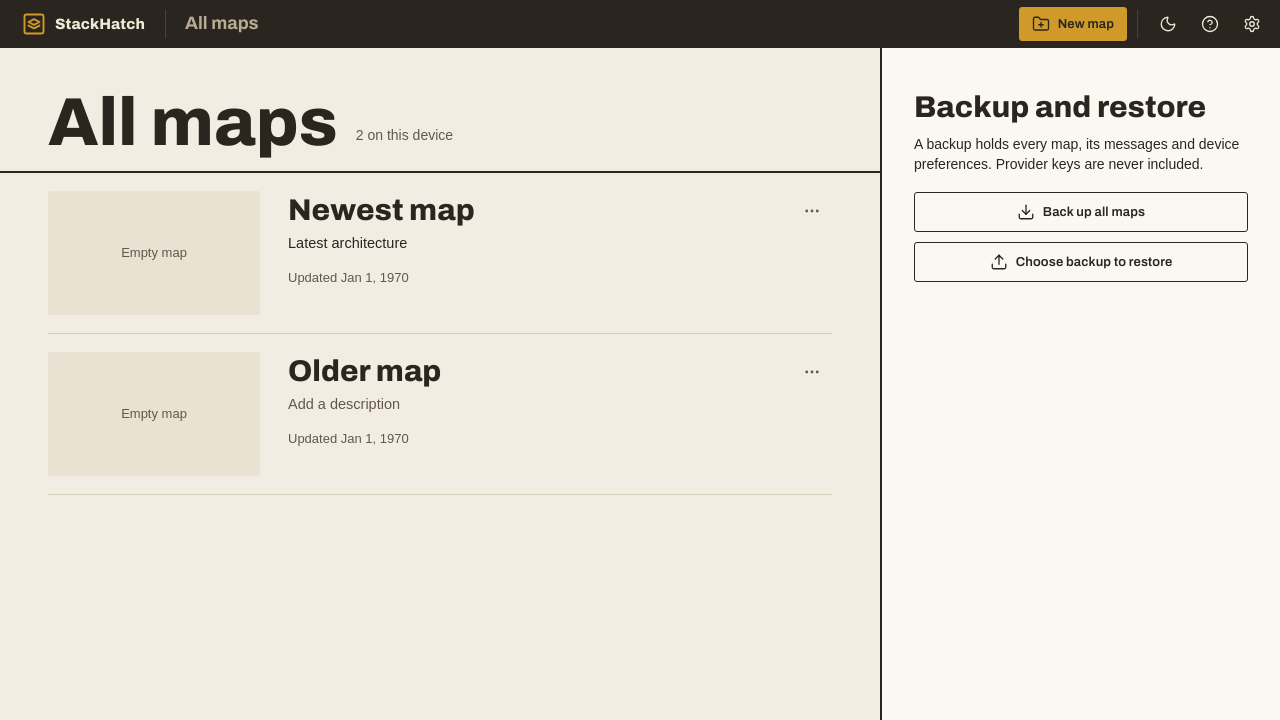
Scenario: AllMapsPage › keeps an unsaved description editable after browser storage fails
Click the button with aria-label "Edit description for Older map": coordinates (344, 404) [288,392,400,417]
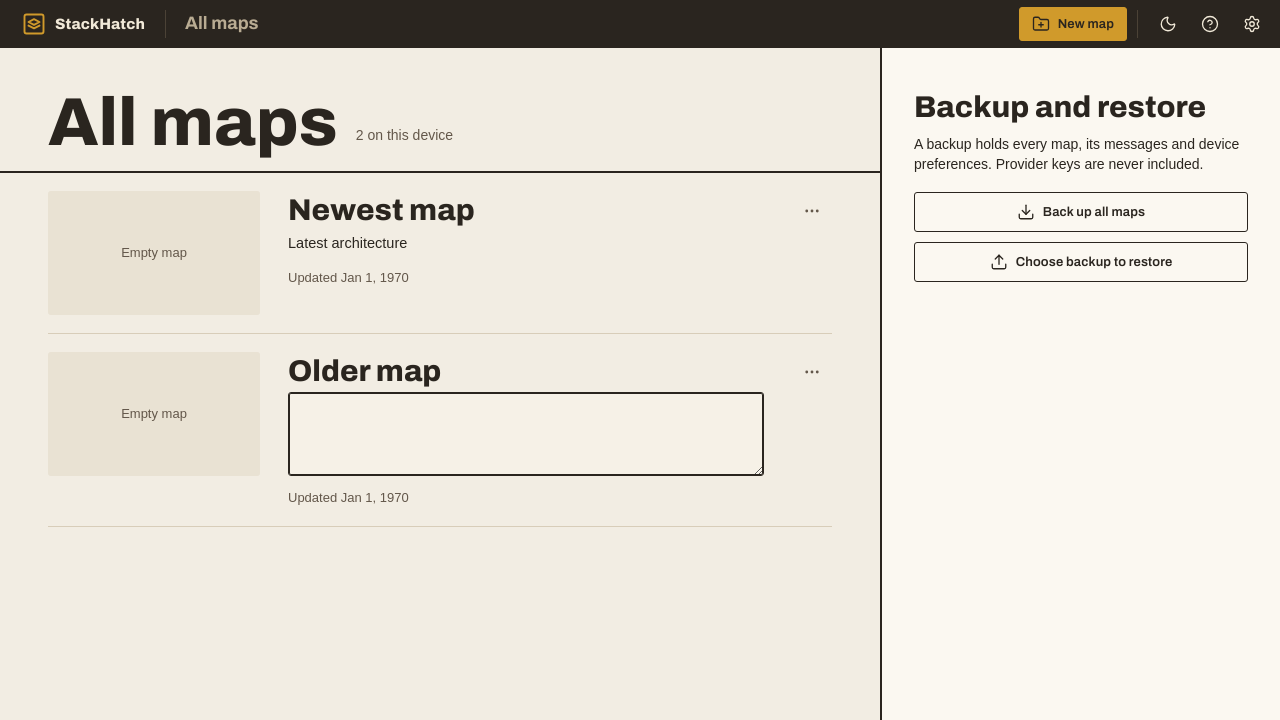
In the text box named "Description for Older map": coordinates (526, 434) [288,392,764,476], type "Keep this draft"
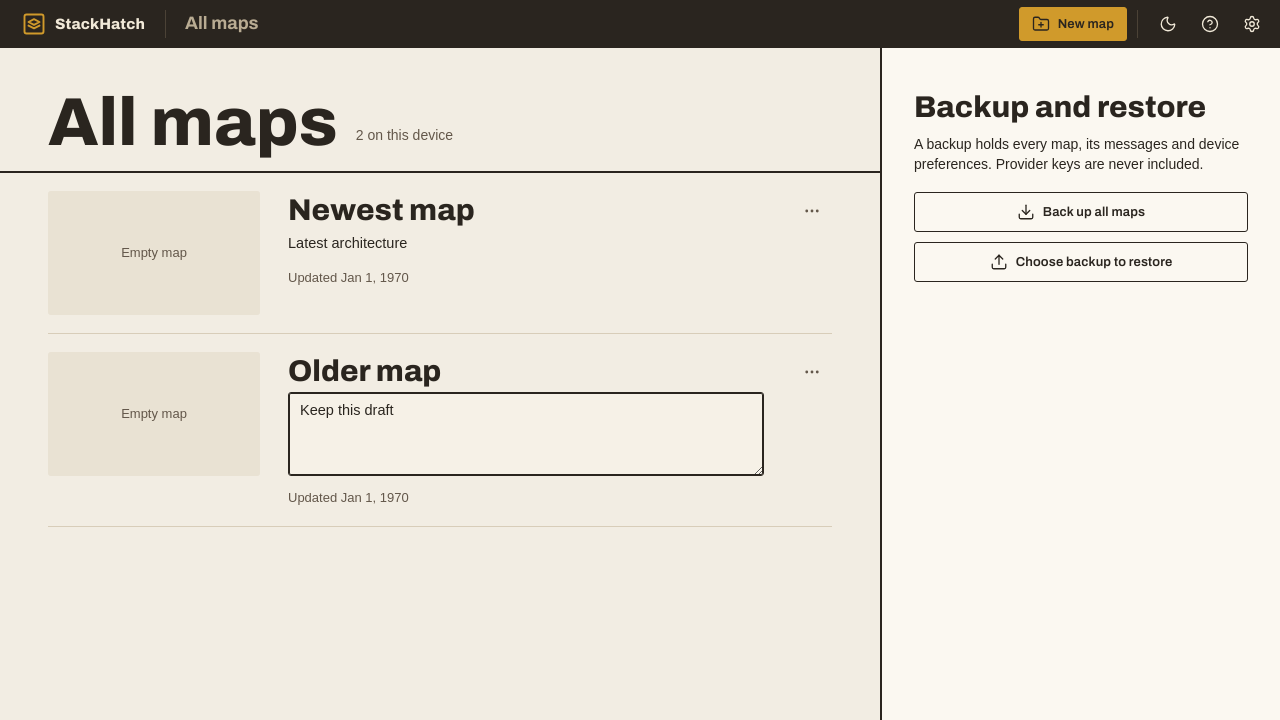
Leave the text box named "Description for Older map", box [288,392,764,476]
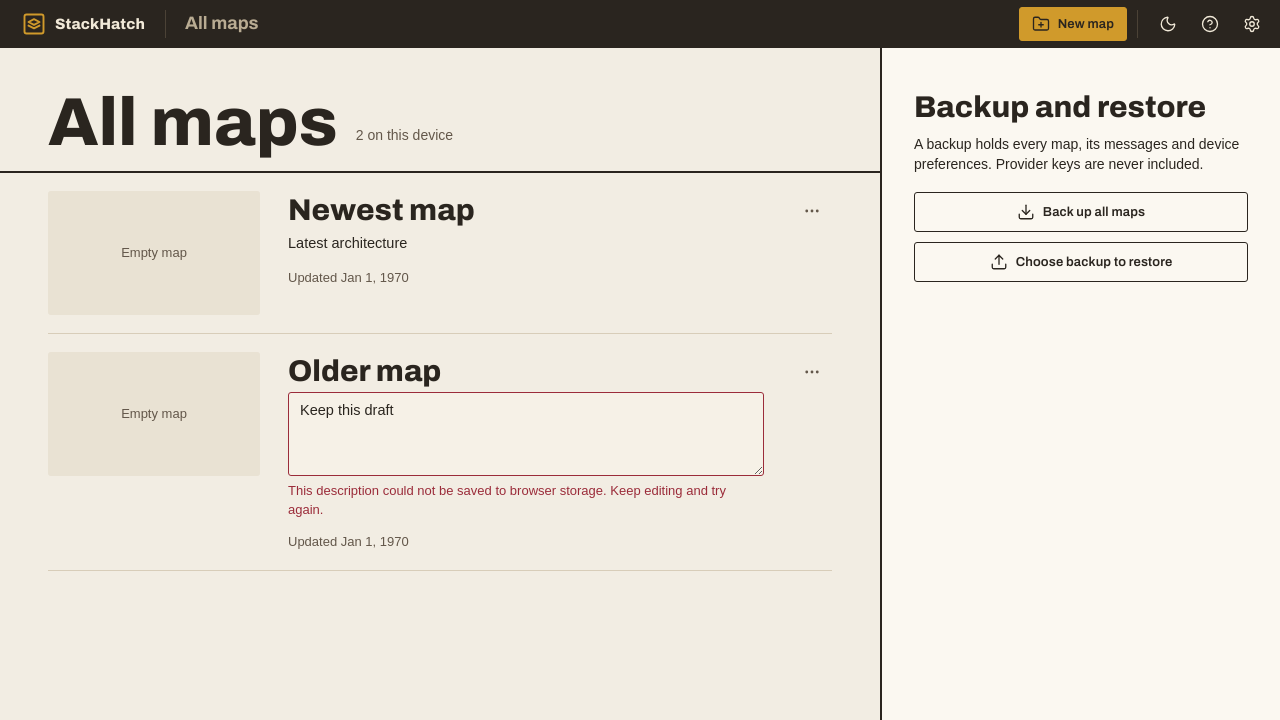
Result: the message shows "could not be saved" at [288,483,726,517]
